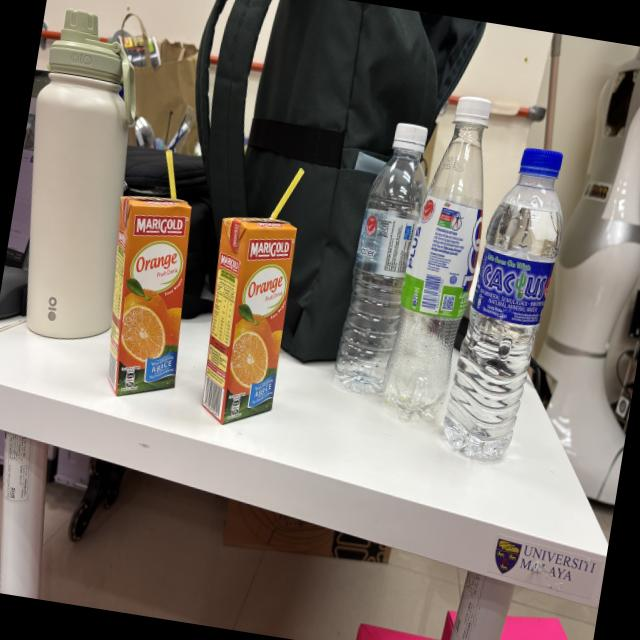drink_carton: (186, 146, 321, 448), (78, 134, 220, 414)
plastic_bottle: (430, 116, 580, 476), (373, 77, 508, 440), (326, 110, 446, 415)
